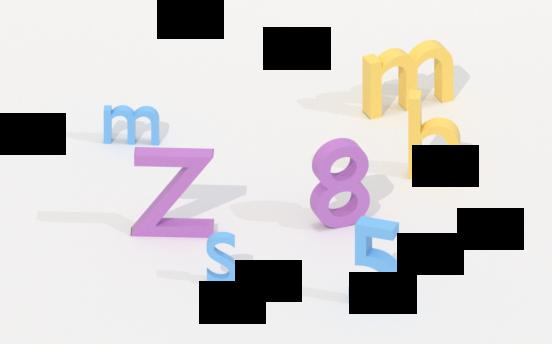5: (349, 213, 408, 308)
8: (308, 130, 373, 235)
h: (403, 86, 471, 187)
m: (357, 38, 459, 122), (100, 101, 166, 150)
s: (203, 225, 243, 289)
z: (128, 142, 217, 244)
